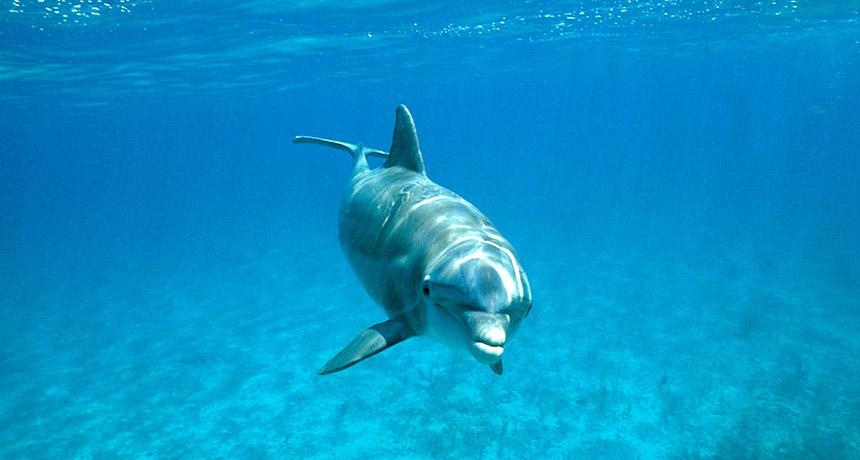dolphin: (274, 96, 571, 386)
